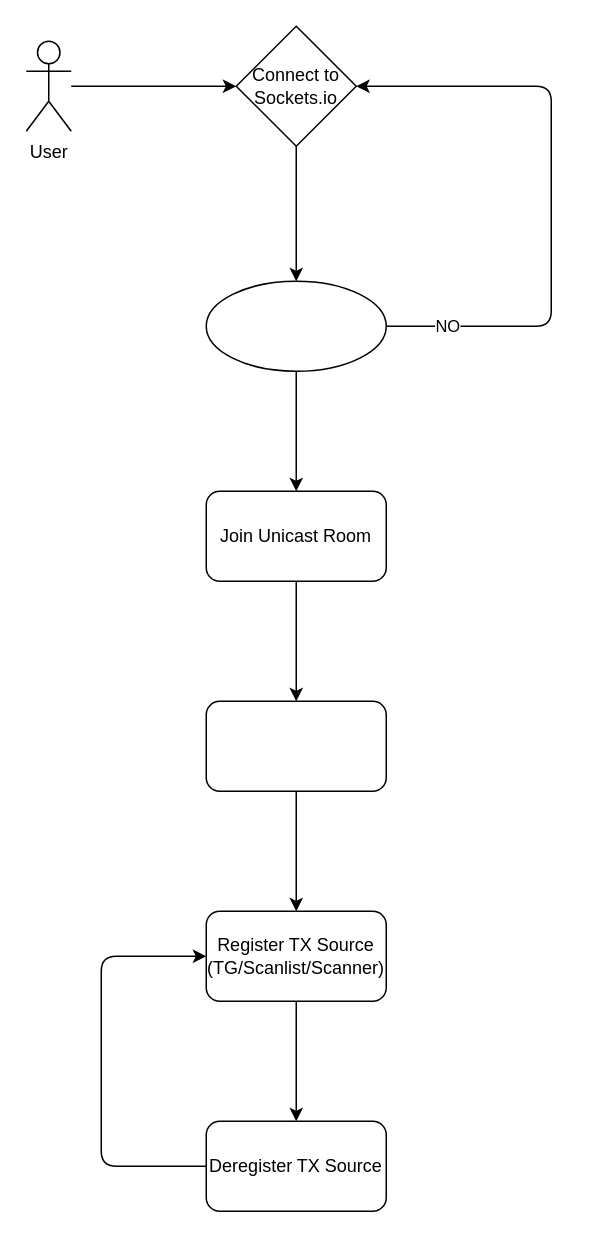
The diagram is 590 pixels wide and 1238 high, and some of its shapes have lost their labels. The centre of each missing label's shape, as x and y in pixels:
"Join Users Alert Room" belongs at point 295,745.
"Valid Auth Token?" belongs at point 295,325.
